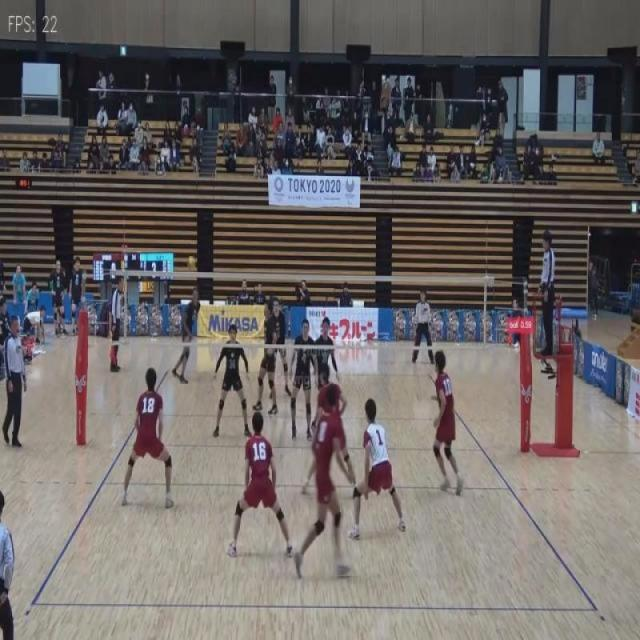volleyball: (187, 256, 196, 272)
